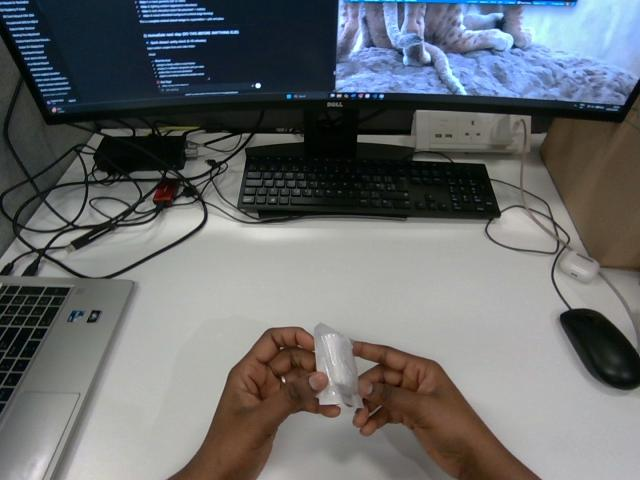gauze: (314, 323, 362, 407)
